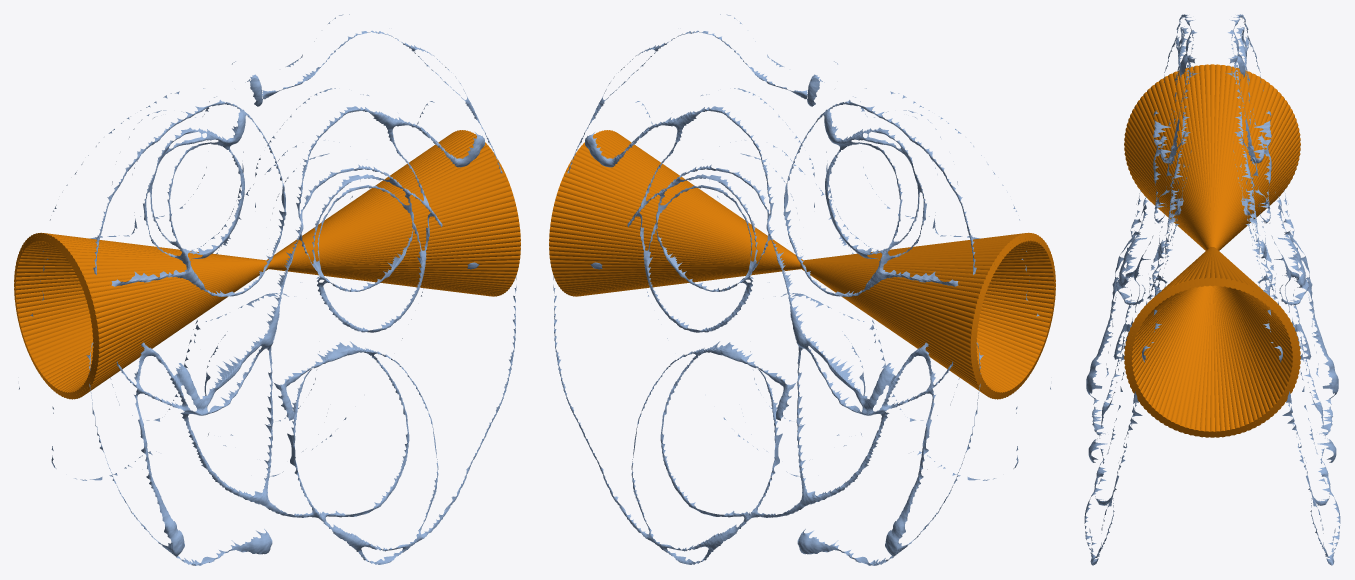
File: A60025776_5995-37-523-8226_DigitalTwin.glb
3 renders of one model, left to right at view 1: azimuth 30°, elevation 25°; view 2: azimuth 150°, elevation 25°; view 3: azimuth 270°, elevation 25°, orthographic. The views are drawn at different scales.
Parts seen in each view (by area): view 1: world; view 2: world; view 3: world.
Boxes of the visible parts, <box> form: world: <box>14,14,520,565</box>; world: <box>549,14,1055,565</box>; world: <box>1084,14,1340,565</box>.
Bounding box in the file's own units: 231 × 255 × 116.
